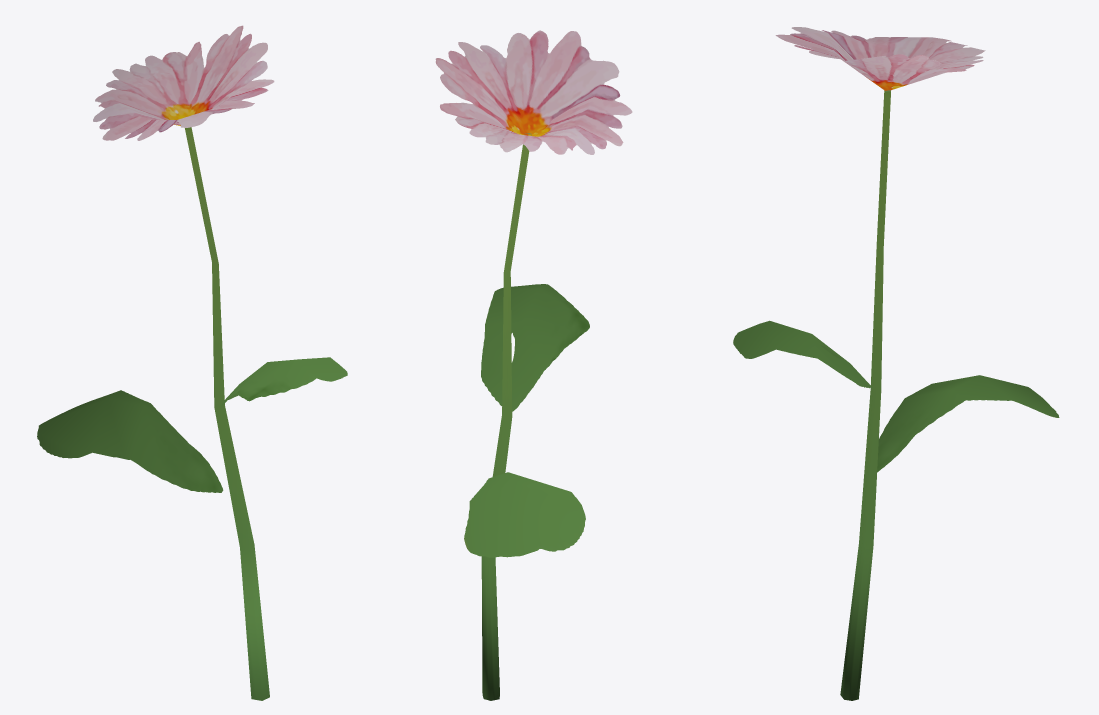
File: FlowerB_VAR_b.fbx
3 views of the same model, side by side, from view 1: azimuth 30°, elevation 25°; view 2: azimuth 150°, elevation 25°; view 3: azimuth 270°, elevation 25° (orthographic). The views are drawn at different scales.
Visible parts, largest first — view 1: FlowerB_VAR_bLOD0; view 2: FlowerB_VAR_bLOD0; view 3: FlowerB_VAR_bLOD0.
Boxes of the visible parts, <box> form: FlowerB_VAR_bLOD0: <box>37,25,347,700</box>; FlowerB_VAR_bLOD0: <box>435,30,632,700</box>; FlowerB_VAR_bLOD0: <box>733,27,1059,700</box>.
Size of what is drawn, in the model's own units: 25.21 by 67.67 by 36.15.
